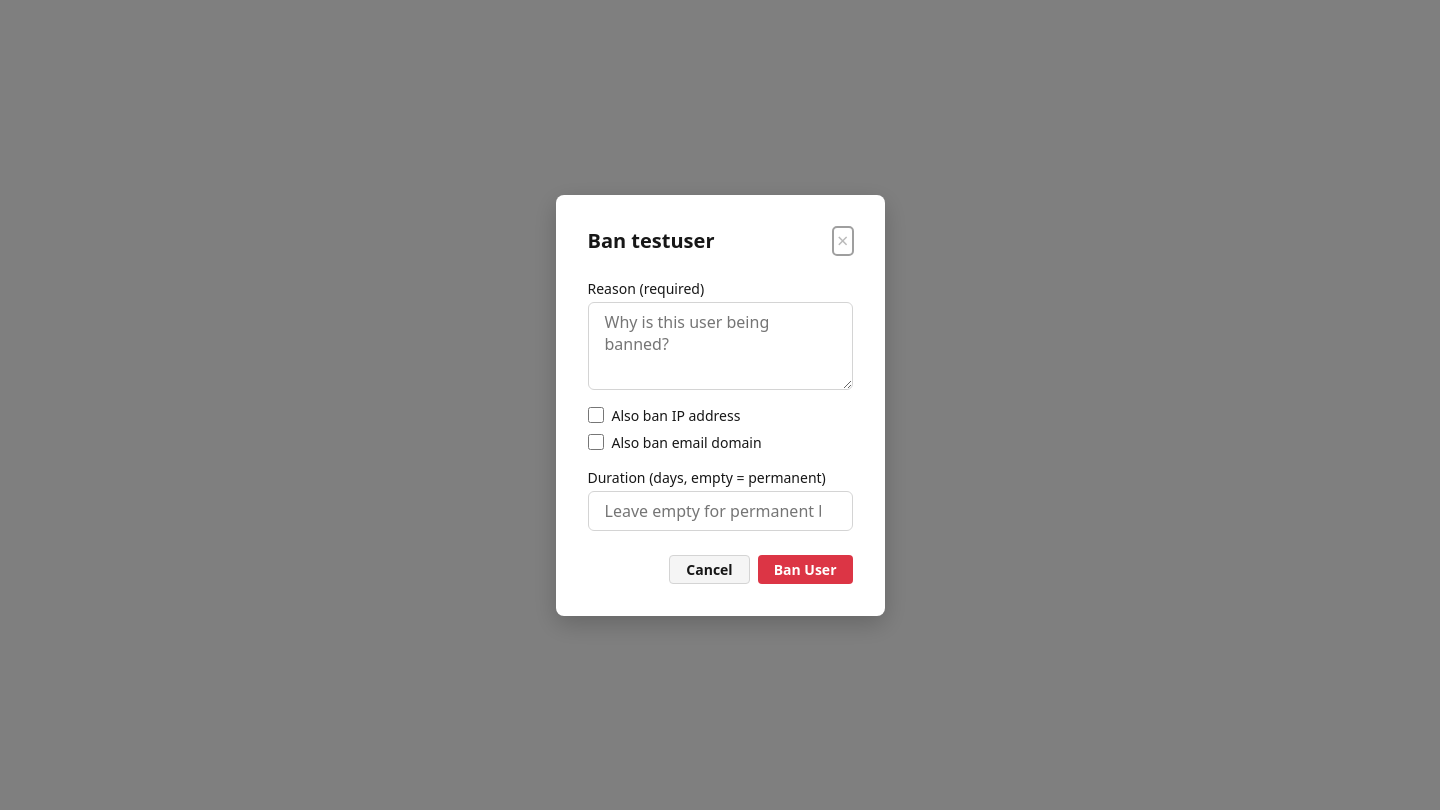
it: BanUserModal › shows domain warning when ban email is checked
Click the text "Also ban email domain" at (687, 442), box left=612, top=432, right=762, bottom=452
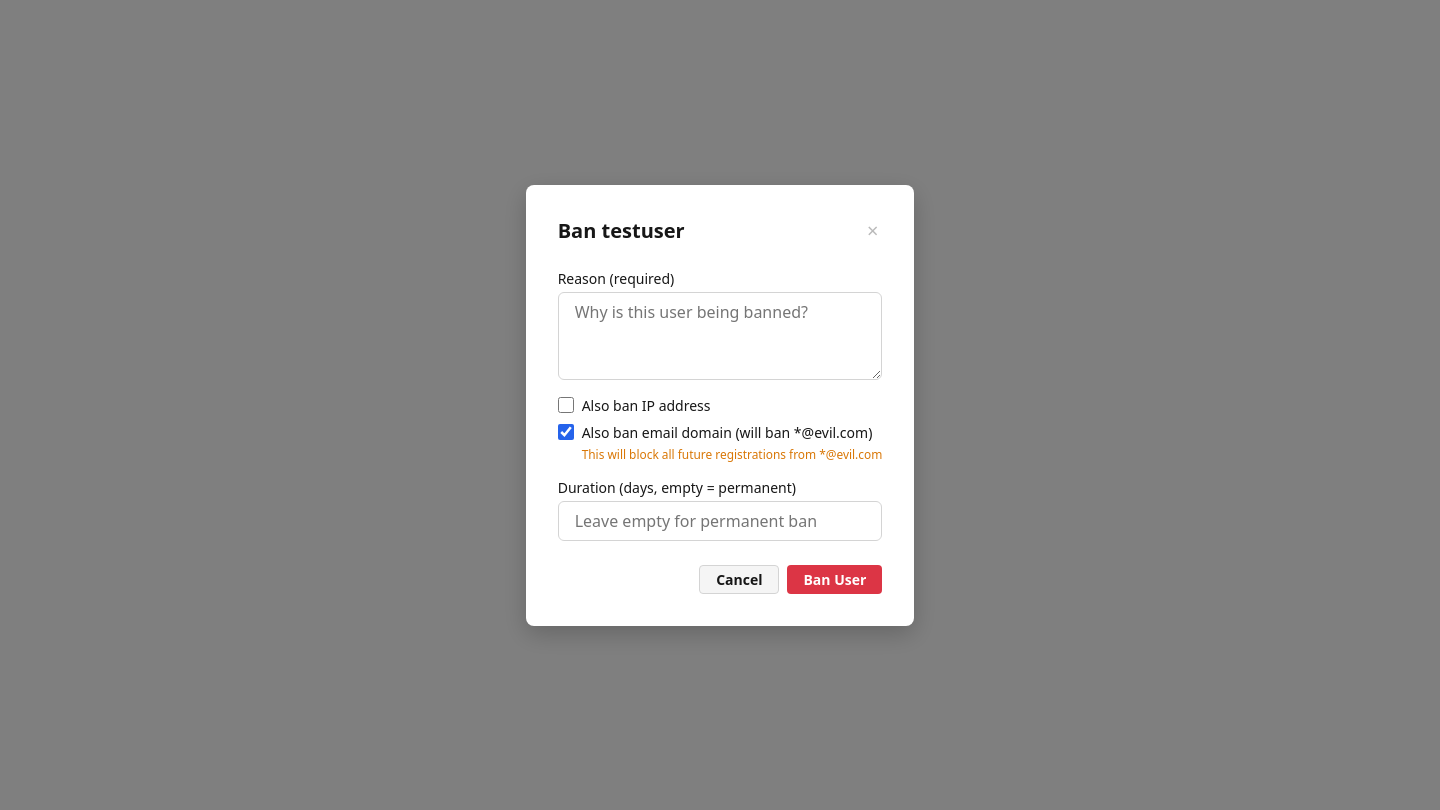
Result: the text "This will block all future registrations from *@evil.com" is shown at left=582, top=446, right=882, bottom=462
